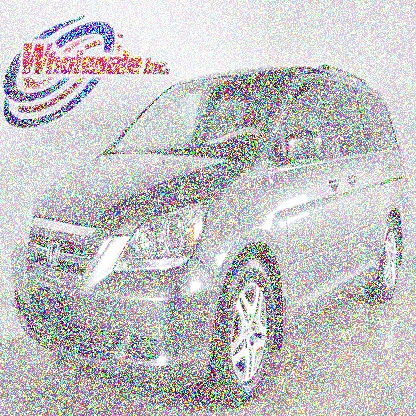Vehicle: (9, 64, 414, 406)
